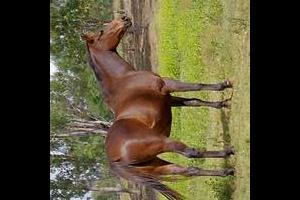horse: (80, 16, 235, 200)
